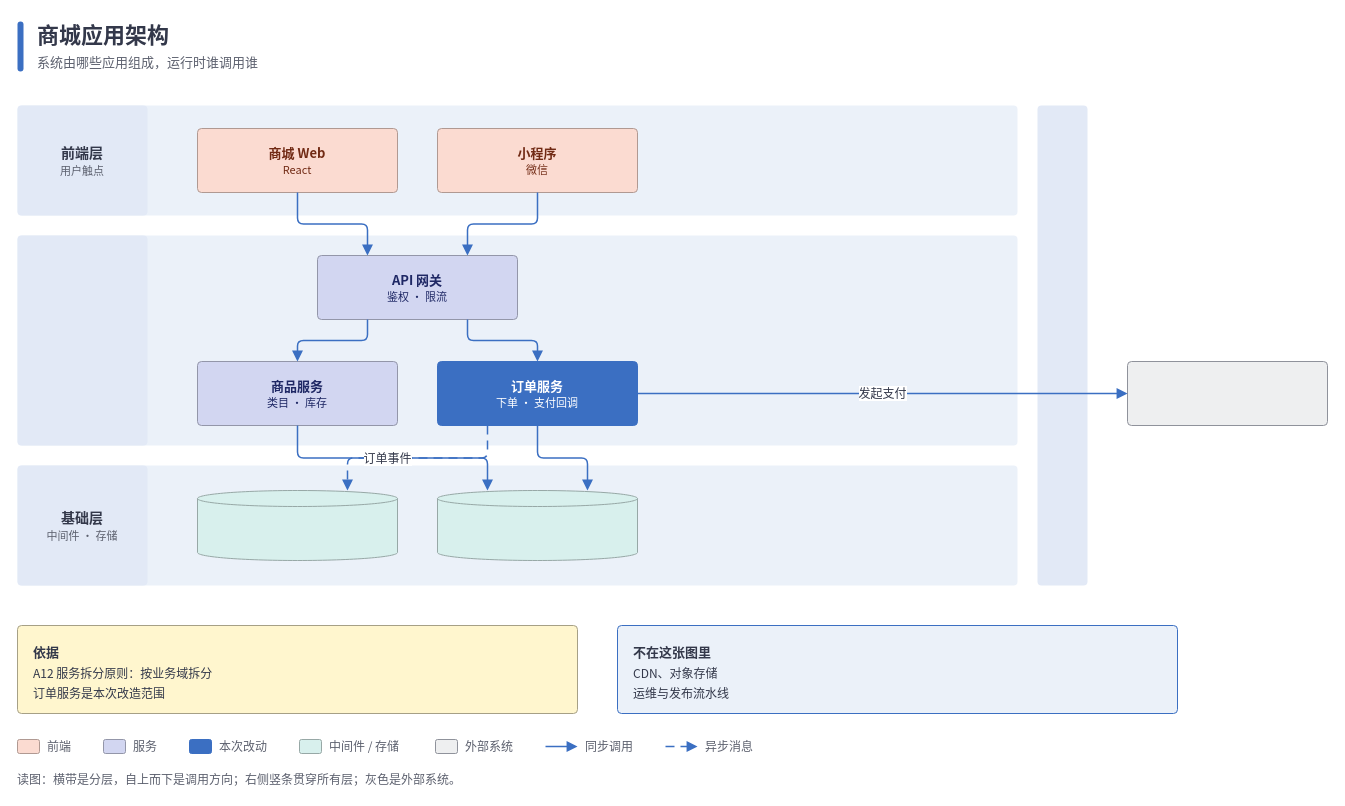
The diagram is 1345 pixels wide and 806 high, and some of its shapes have lost their labels. Each missing label, with the box of its shape:
MySQL 业务库: (436, 490, 638, 560)
RocketMQ 订单事件: (196, 490, 398, 560)
安 全 · 监 控: (1037, 105, 1087, 585)
支付平台 外部系统: (1126, 360, 1328, 426)
服务层 业务逻辑: (17, 235, 147, 445)
